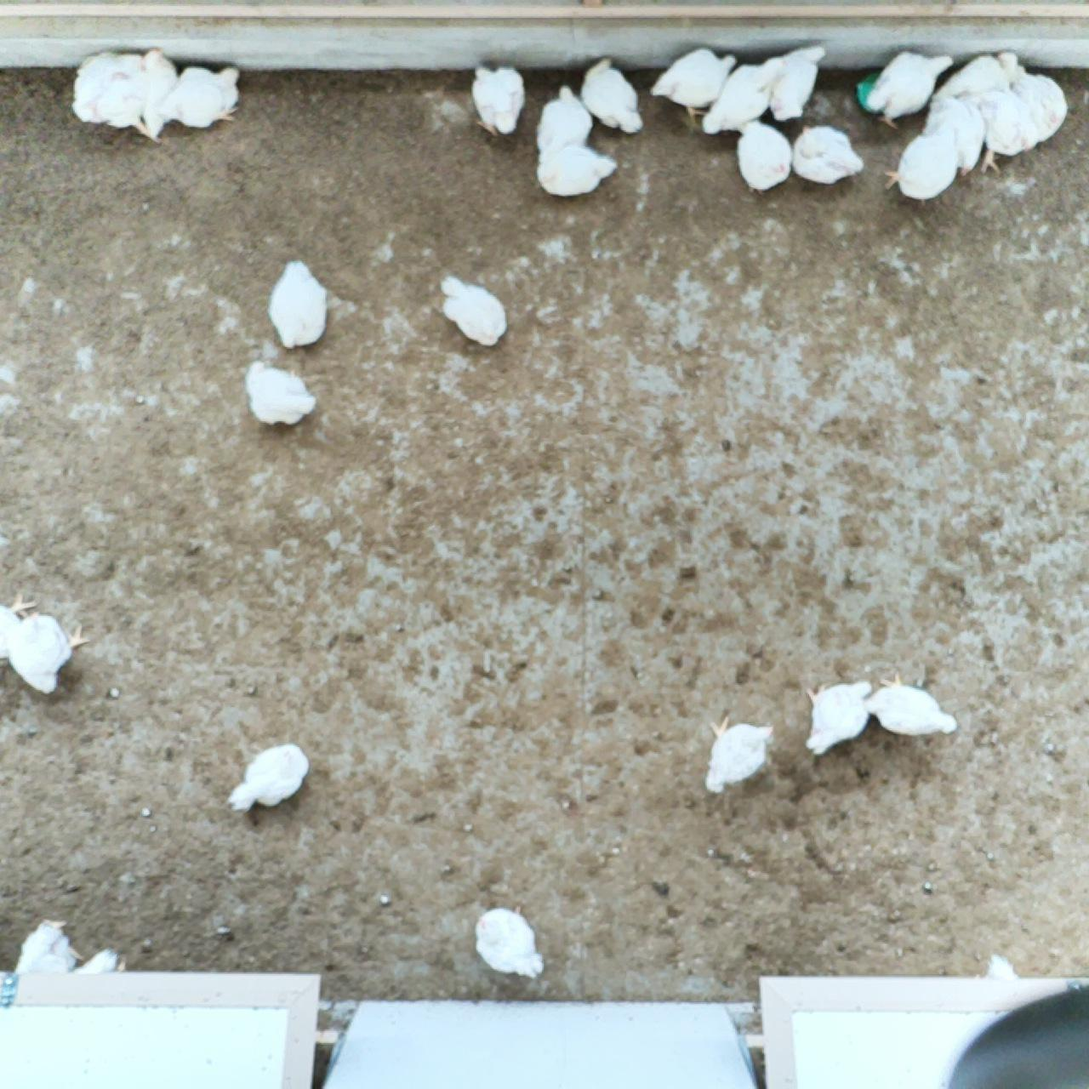chicken: (650, 43, 741, 135), (699, 50, 791, 138), (865, 48, 957, 134), (7, 607, 91, 701), (881, 117, 964, 207), (864, 670, 961, 745), (222, 739, 314, 817), (702, 708, 778, 800), (471, 896, 548, 985), (801, 675, 878, 761), (265, 255, 332, 353), (158, 63, 244, 136), (972, 84, 1039, 177), (69, 47, 145, 128), (243, 355, 321, 432), (435, 272, 511, 351), (579, 53, 646, 140), (927, 89, 990, 178), (92, 70, 167, 144), (767, 41, 831, 124), (733, 117, 796, 201), (789, 123, 869, 189), (465, 62, 530, 142), (535, 141, 620, 200), (535, 81, 598, 156), (1010, 65, 1070, 143), (136, 42, 182, 143), (938, 48, 1025, 101), (14, 916, 84, 979), (0, 586, 43, 664), (74, 945, 132, 978)
